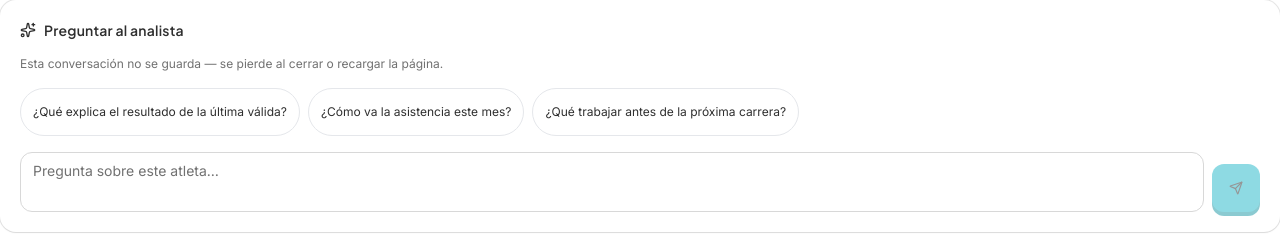
Test: AthleteAnalystChatPanel › un chip de sugerencia rellena el input sin enviar la consulta automáticamente
This screenshot has width=1280, height=250.
What coordinates should you click on to do the following:
click the button with test id "athlete-analyst-chat-suggestion-chip"
I would click on:
 (160, 112)
Its box is [20, 88, 300, 136].
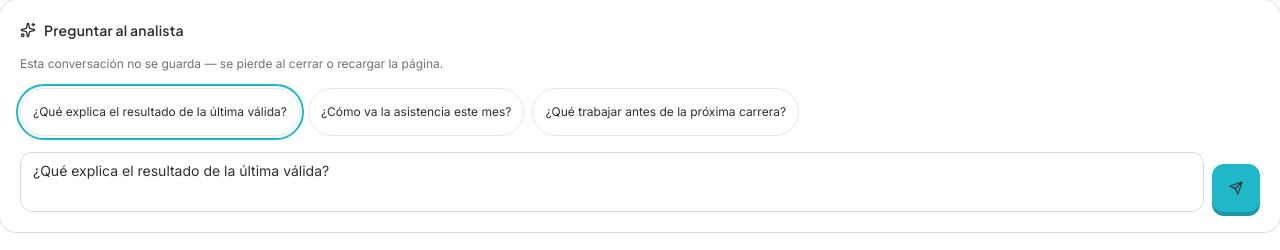
Result: the text box with test id "athlete-analyst-chat-input" holds "¿Qué explica el resultado de la última válida?" at [20, 152, 1204, 212]
